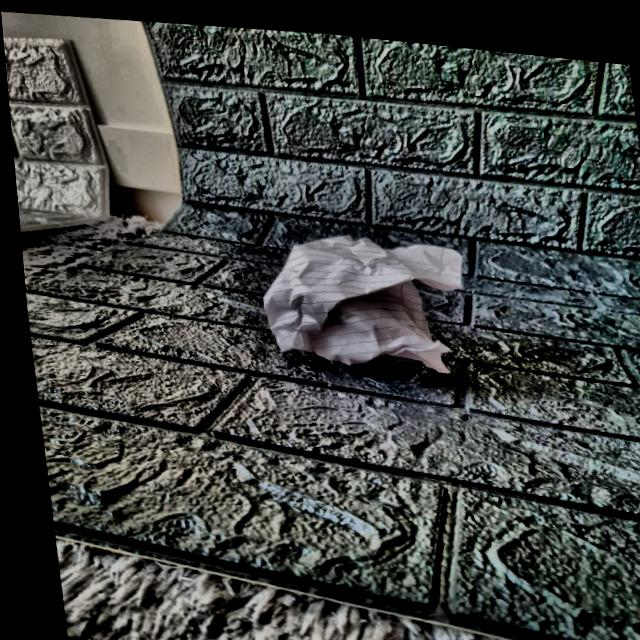Paper: (247, 215, 478, 377)
